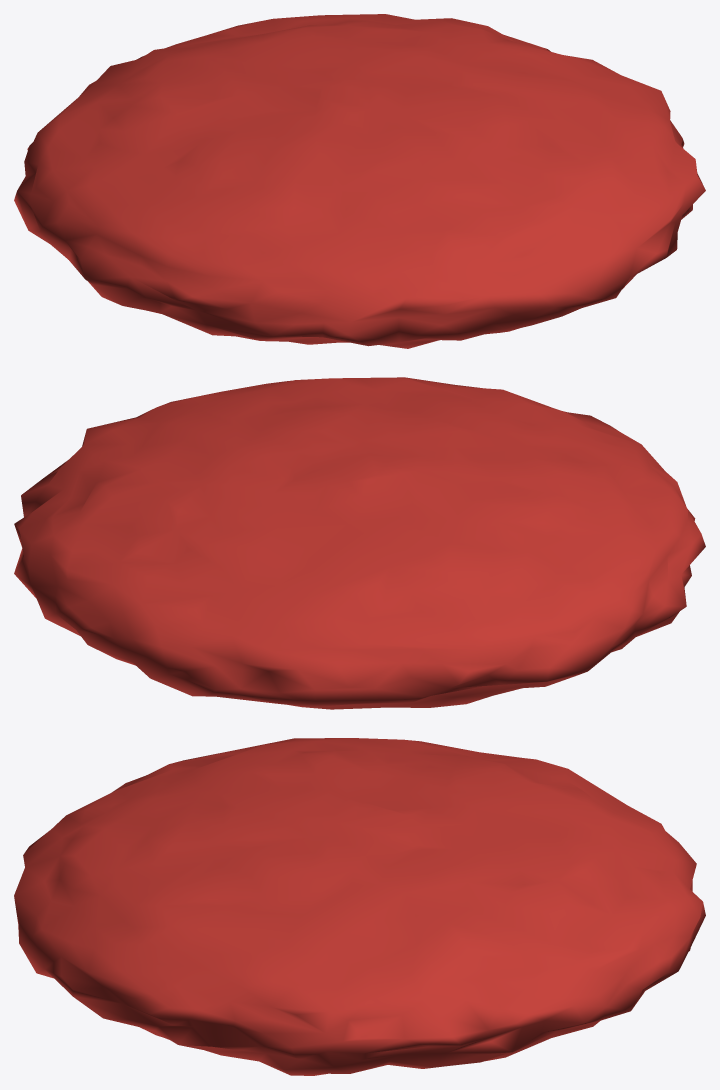
The model's file is Food (7).fbx.
3 renders of one model, top to bottom at view 1: azimuth 30°, elevation 25°; view 2: azimuth 150°, elevation 25°; view 3: azimuth 270°, elevation 25°, orthographic.
Parts seen in each view (by area): view 1: Sphere; view 2: Sphere; view 3: Sphere.
Part boxes in pixels (x1,y1,x2,y2): Sphere: [14, 14, 705, 348]; Sphere: [14, 377, 705, 709]; Sphere: [14, 738, 705, 1075].
Size of the model in its own units: 11.35 by 3.05 by 11.39.
